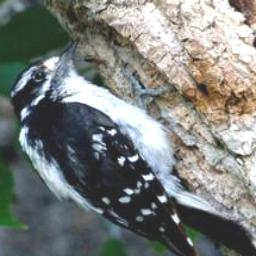Woodpecker: (4, 38, 256, 256)
